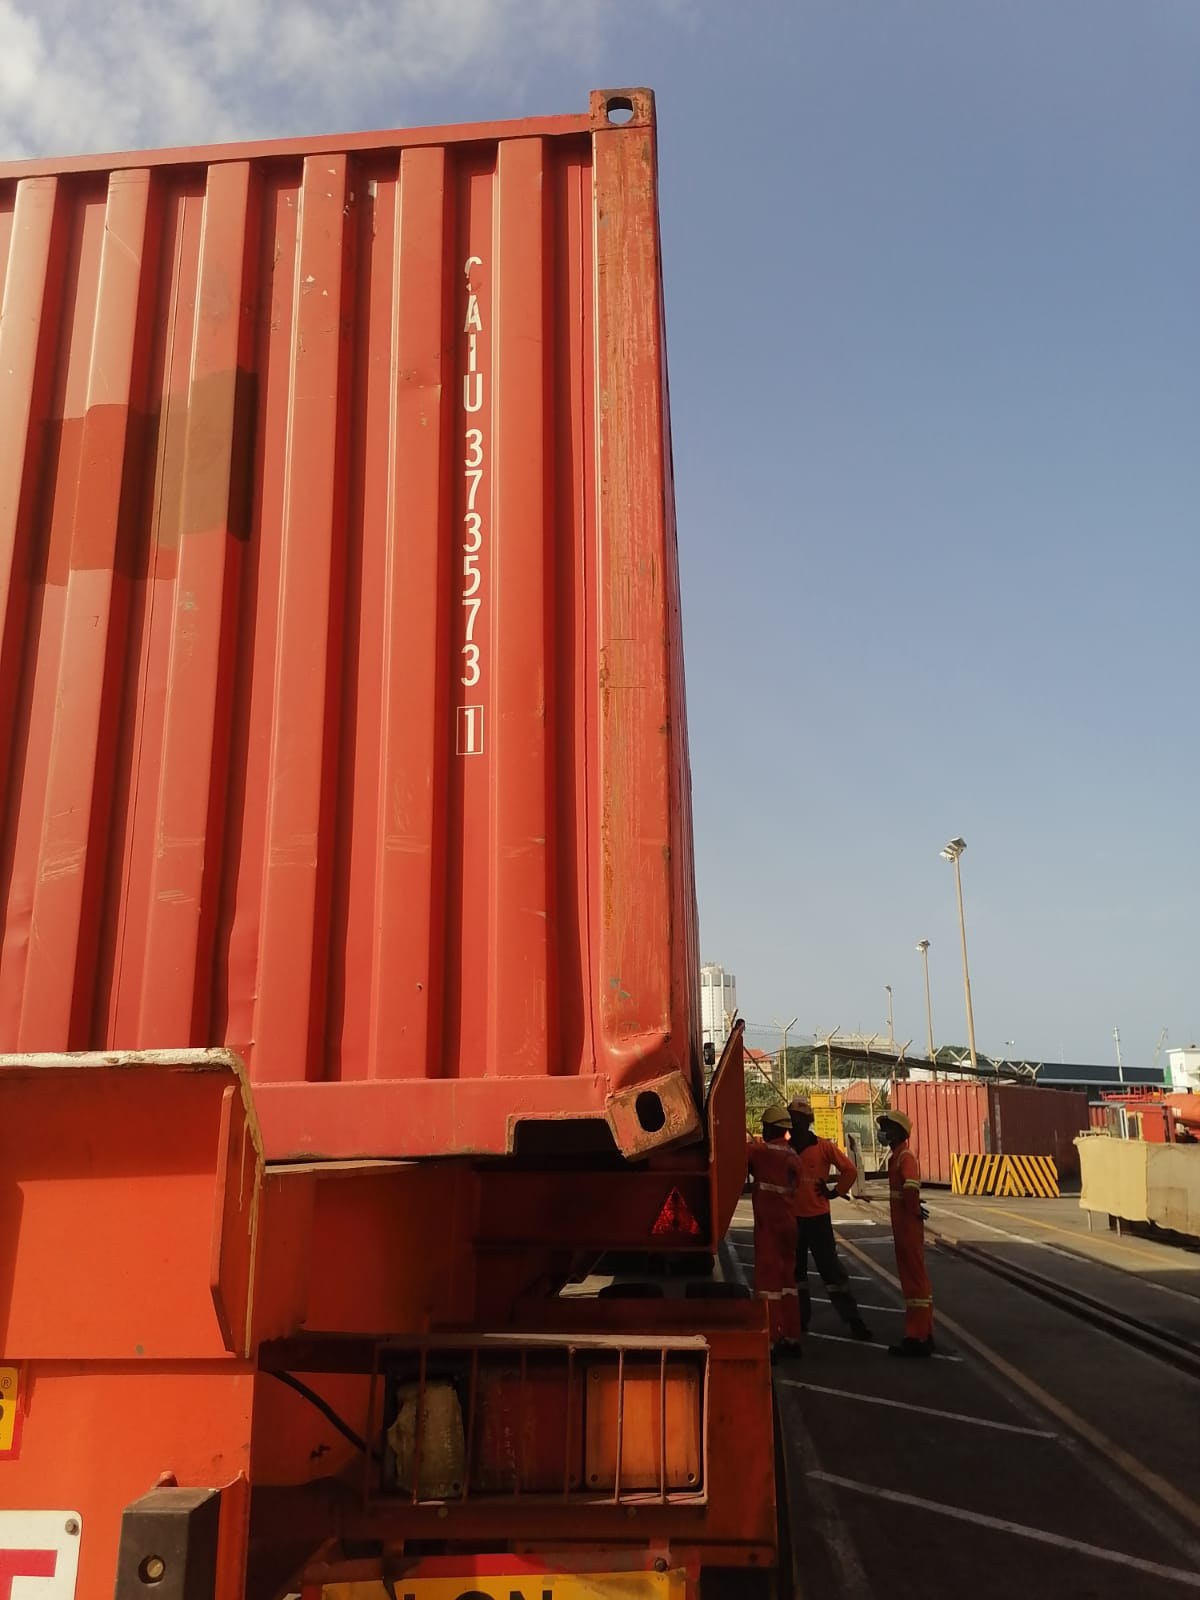dented: (587, 1007, 706, 1128)
